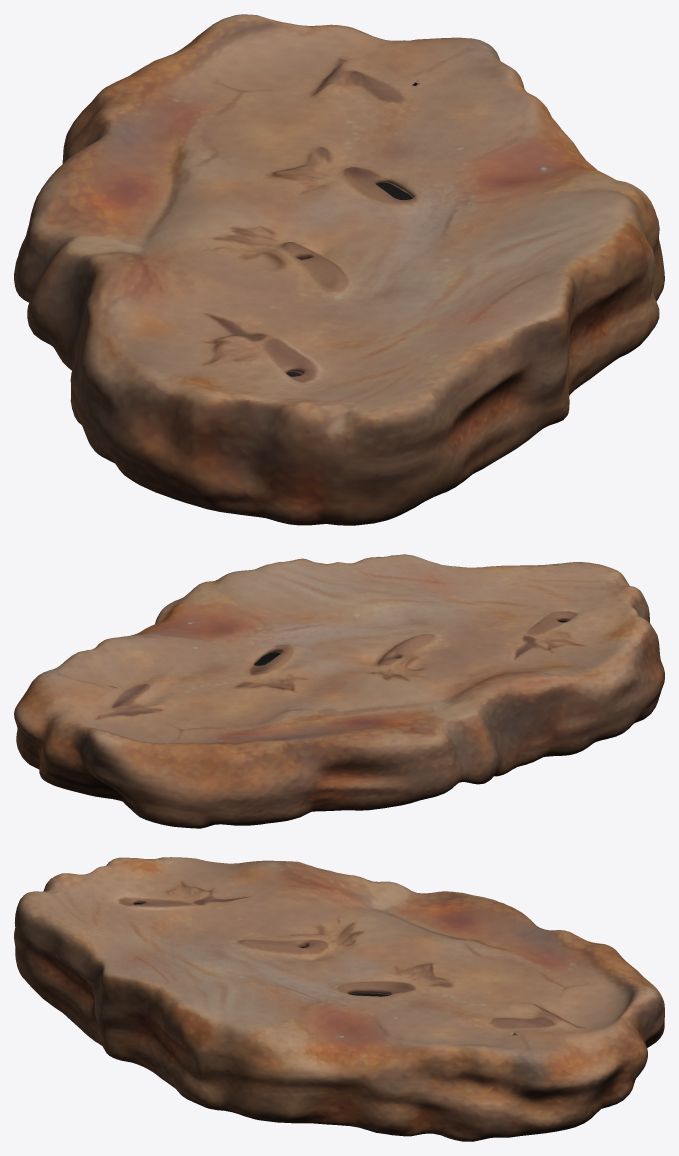
3 renders of one model, top to bottom at view 1: azimuth 30°, elevation 25°; view 2: azimuth 150°, elevation 25°; view 3: azimuth 270°, elevation 25°, orthographic. The views are drawn at different scales.
Parts seen in each view (by area): view 1: world; view 2: world; view 3: world.
Part boxes in pixels (x1=…): world: x1=14, y1=14, x2=664, y2=525; world: x1=14, y1=554, x2=664, y2=828; world: x1=14, y1=857, x2=664, y2=1141.
Size of the model in its own units: 0.2941 by 0.0574 by 0.36.
1 material, 1 textured.
